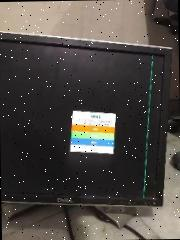electronic: (0, 27, 175, 211)
